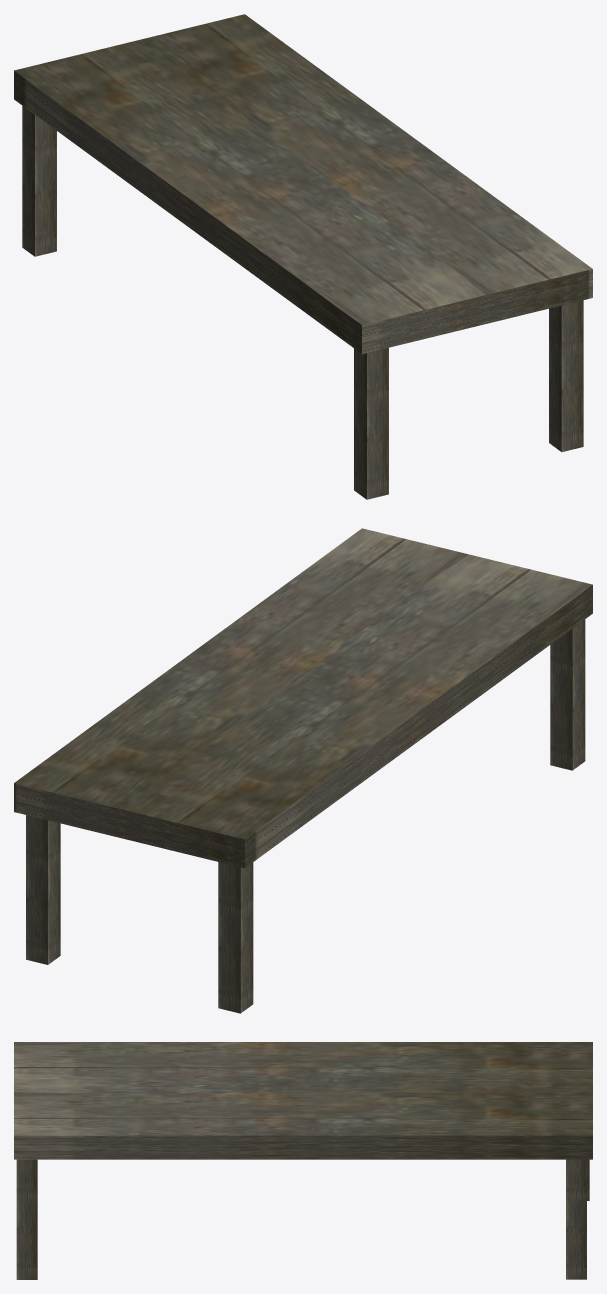
File: tablelow.glb
3 views of the same model, one above another, from view 1: azimuth 30°, elevation 25°; view 2: azimuth 150°, elevation 25°; view 3: azimuth 270°, elevation 25° (orthographic). The views are drawn at different scales.
Parts seen in each view (by area): view 1: Cube; view 2: Cube; view 3: Cube.
Part boxes in pixels (x1,y1,x2,y2): Cube: [14, 14, 592, 499]; Cube: [14, 528, 592, 1013]; Cube: [14, 1042, 592, 1279].
Size of the model in its own units: 2.23 by 1.63 by 5.82.
1 material, 1 textured.
